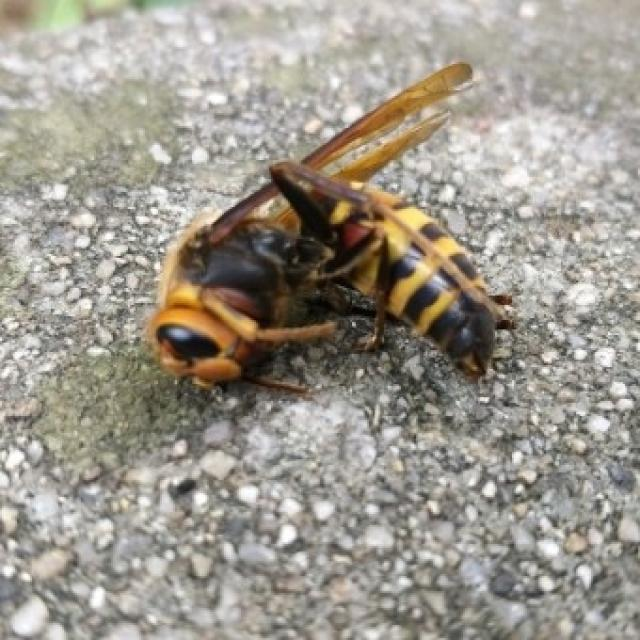Wasp: (145, 51, 525, 388)
